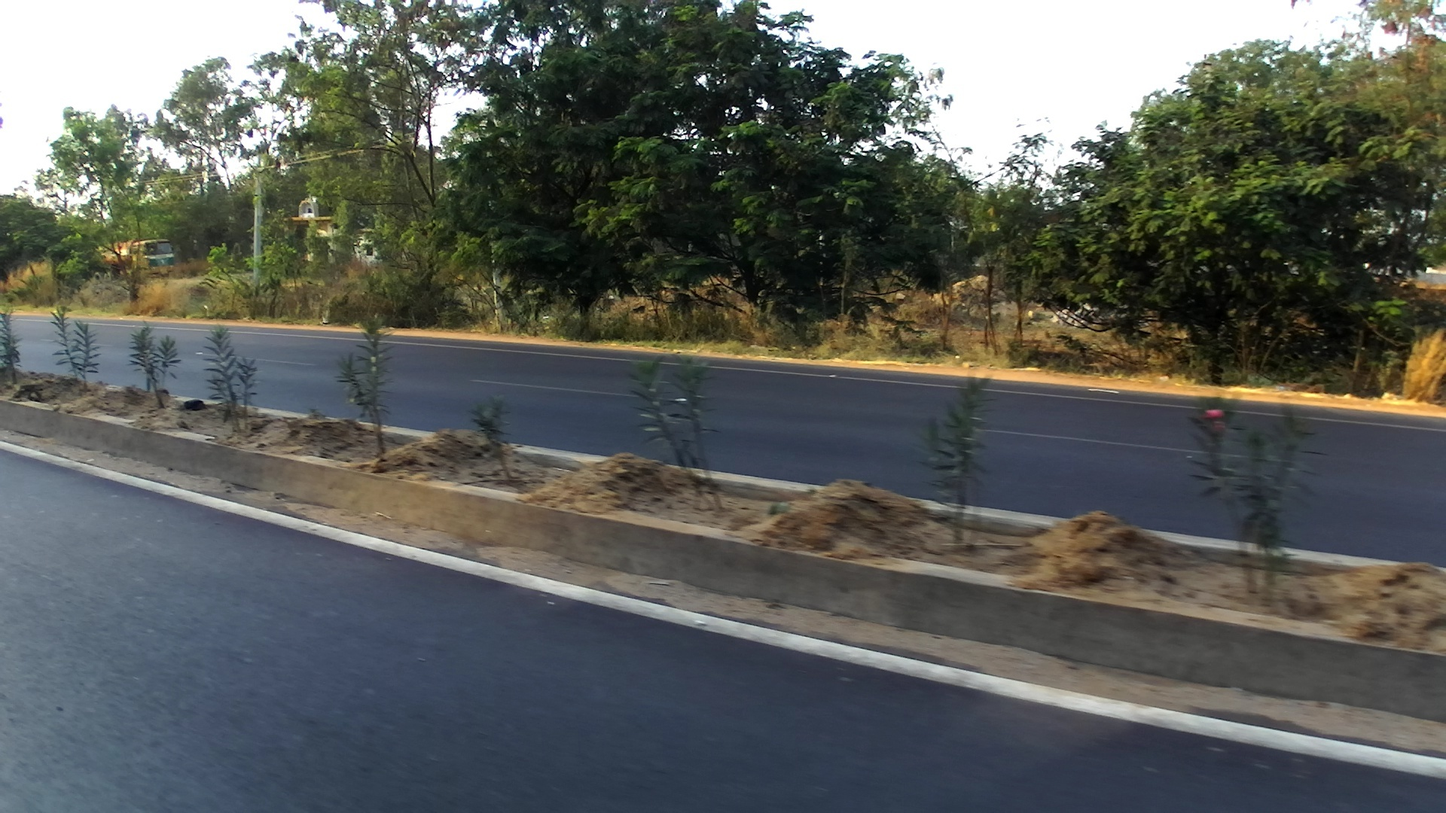truck: (96, 236, 172, 293)
